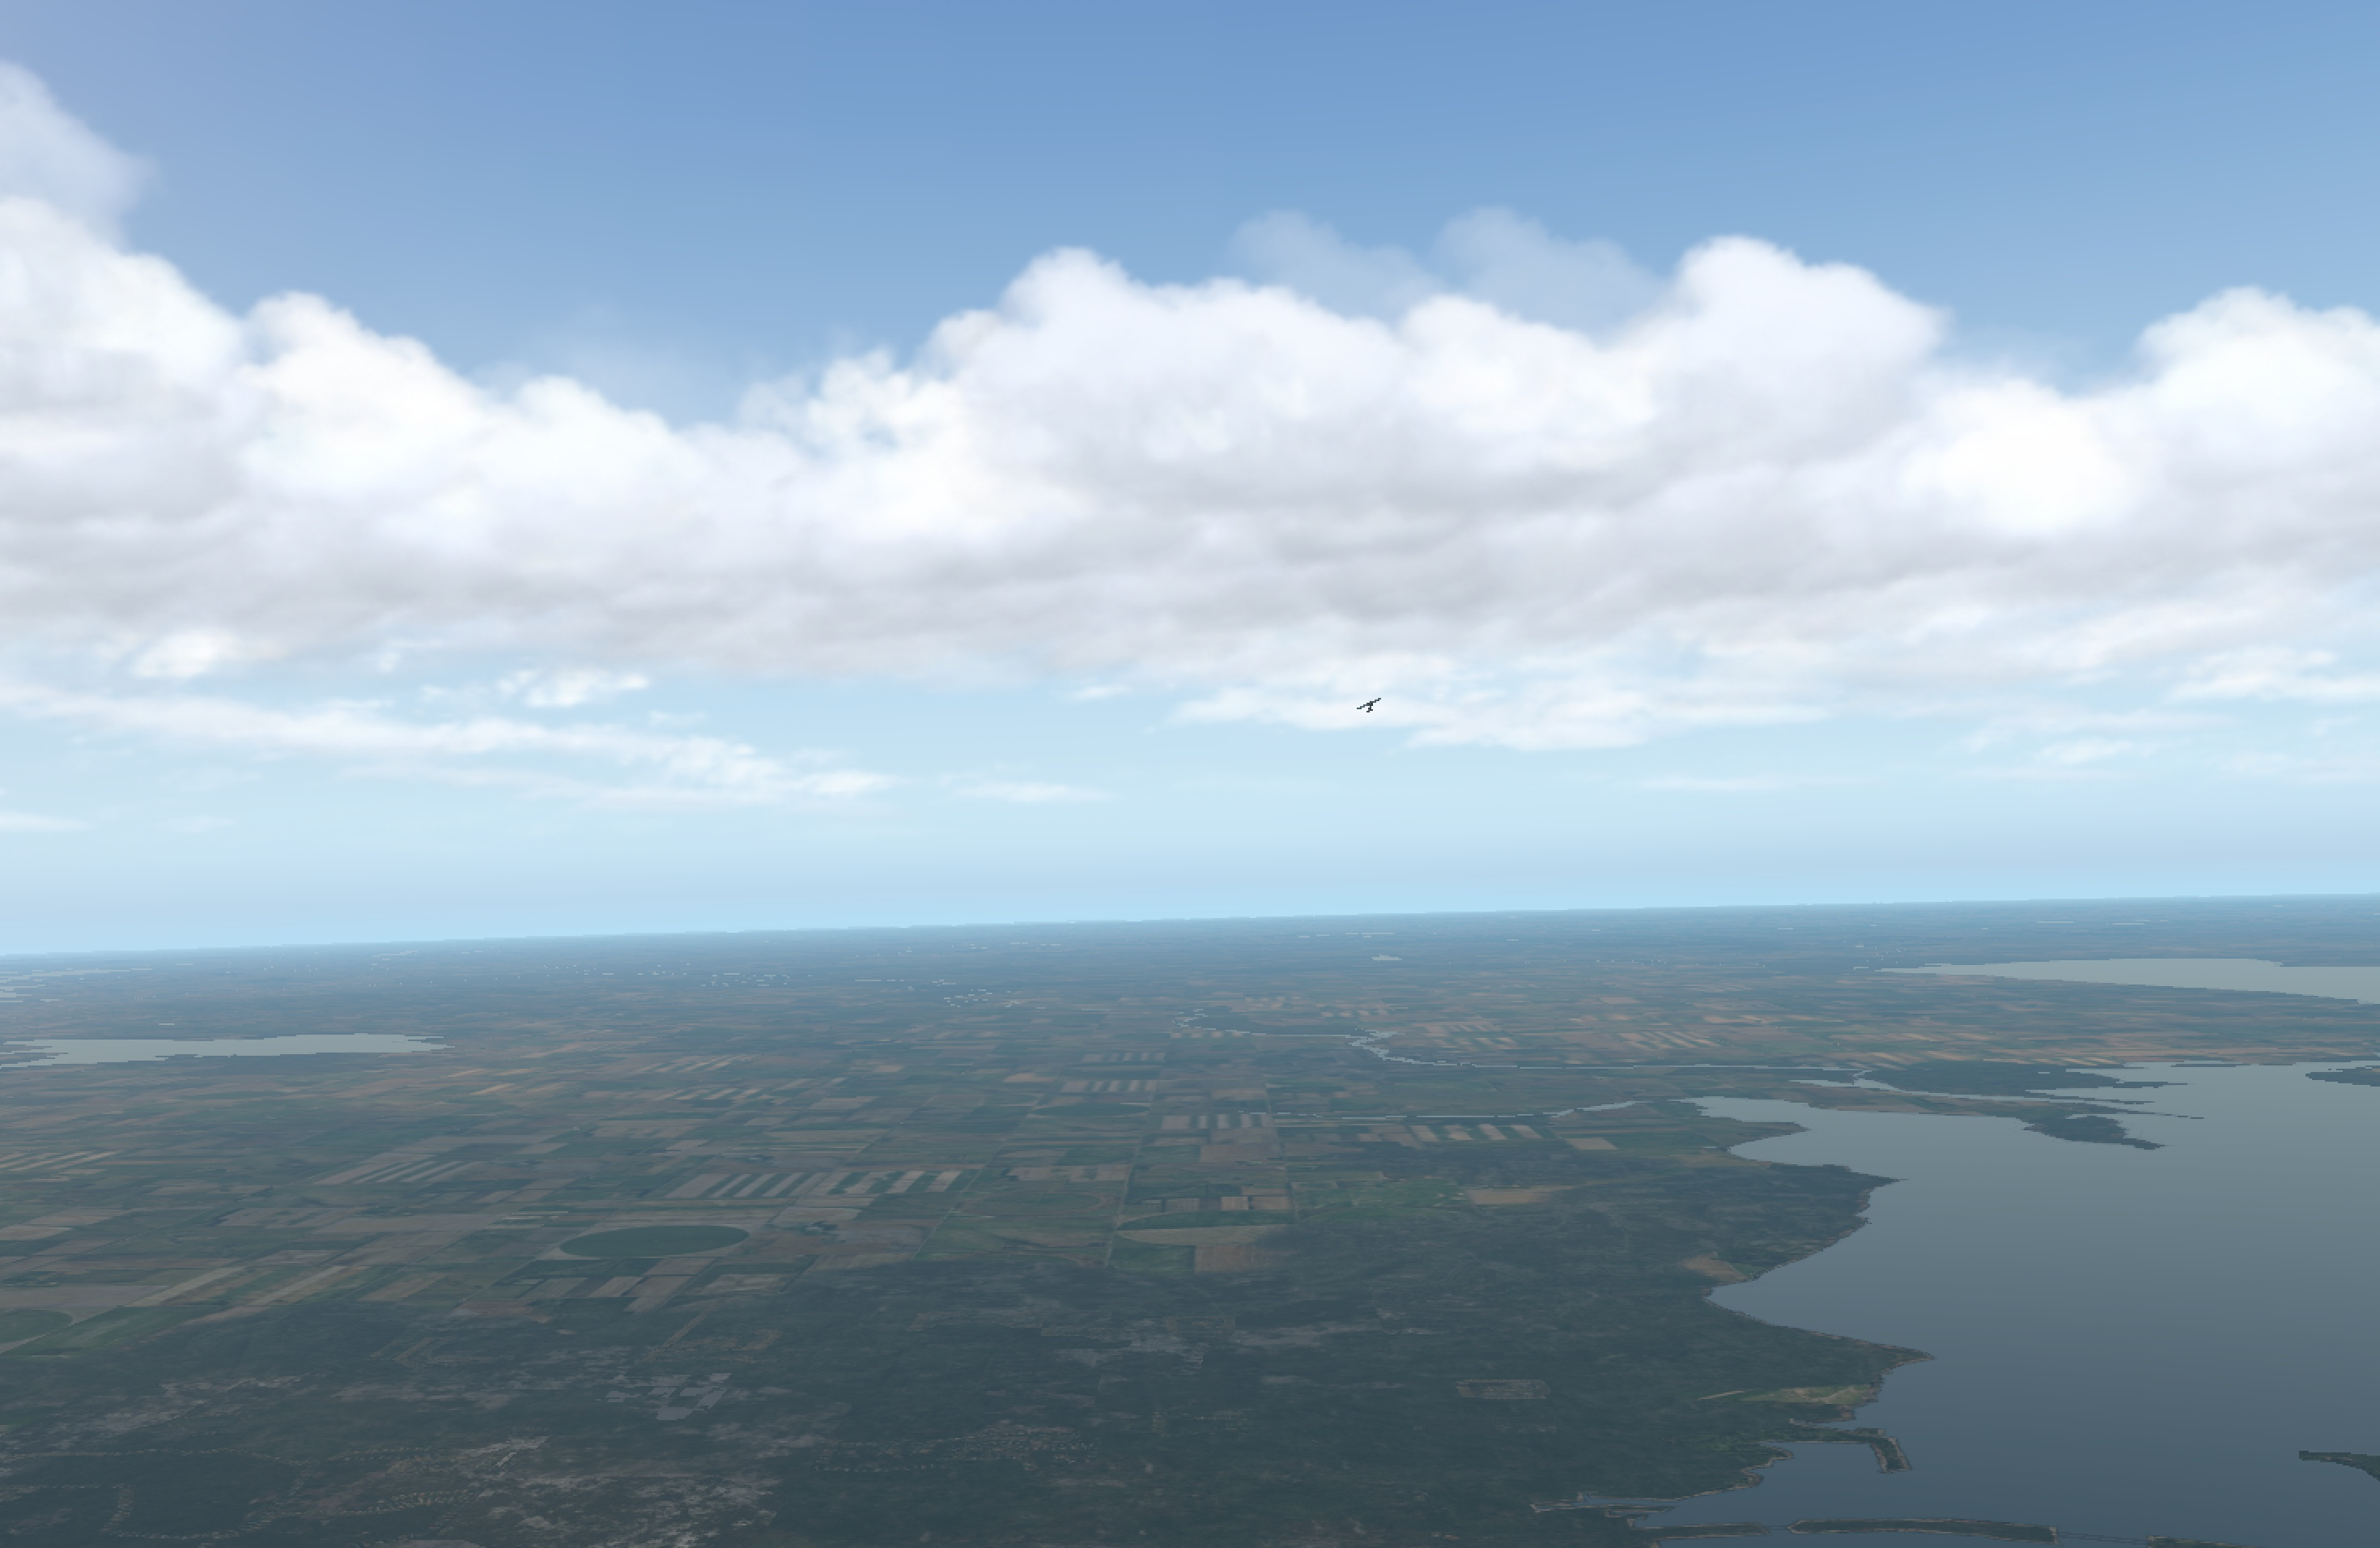aircraft: (1360, 701, 1381, 708)
